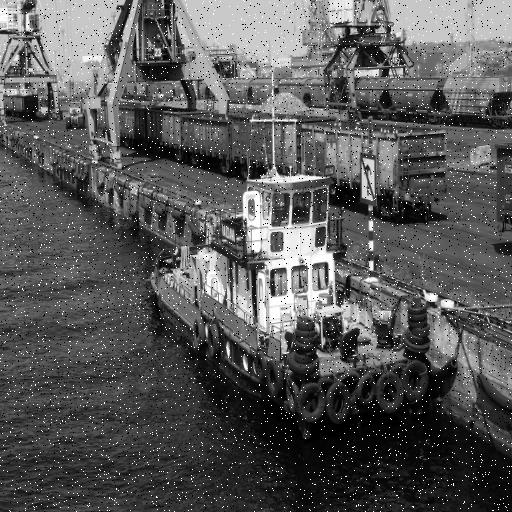tugboat: (147, 56, 433, 449)
